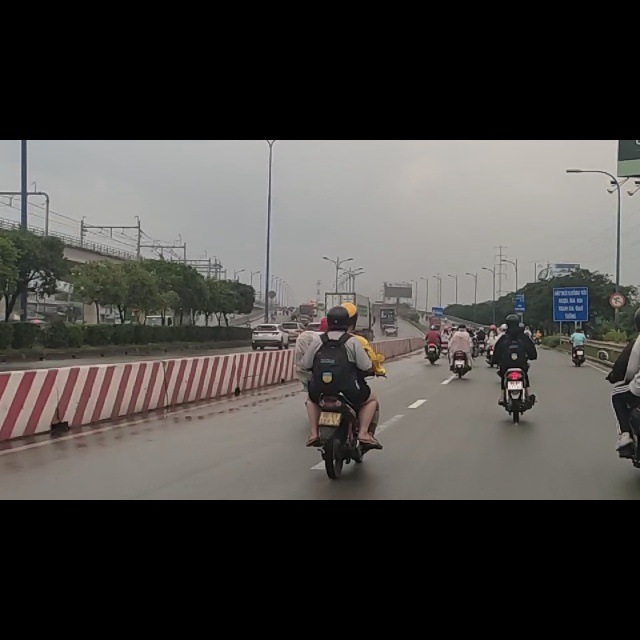bien_cam: (609, 271, 627, 300)
